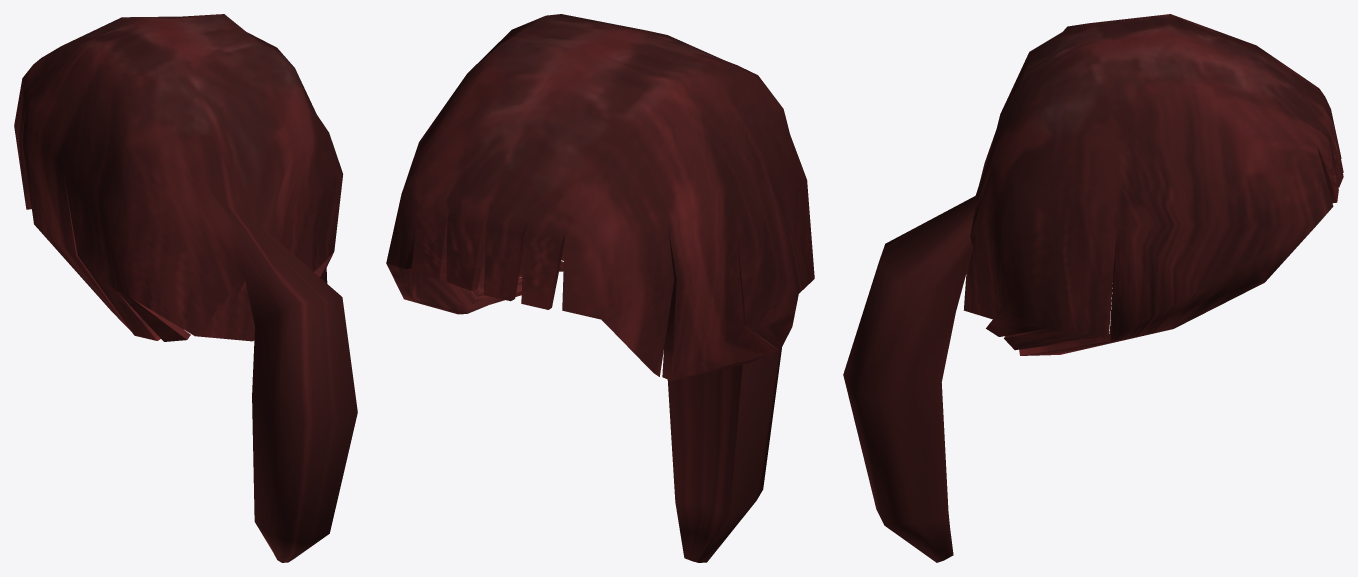
Rendered from hair1.glb.
3 views of the same model, side by side, from view 1: azimuth 30°, elevation 25°; view 2: azimuth 150°, elevation 25°; view 3: azimuth 270°, elevation 25° (orthographic). The views are drawn at different scales.
Parts seen in each view (by area): view 1: hair1; view 2: hair1; view 3: hair1.
Boxes of the visible parts, <box> form: hair1: <box>14,14,357,562</box>; hair1: <box>386,14,814,562</box>; hair1: <box>843,14,1343,562</box>.
Size of the model in its own units: 0.1604 by 0.326 by 0.2877.
1 material, 1 textured.
